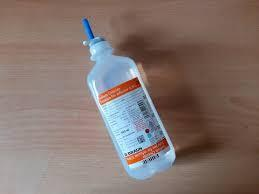Iv_Bottle: (82, 19, 175, 179)
